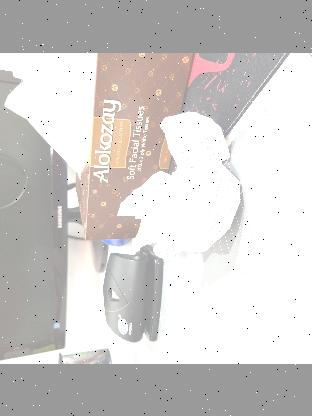Others: (120, 110, 240, 260)
